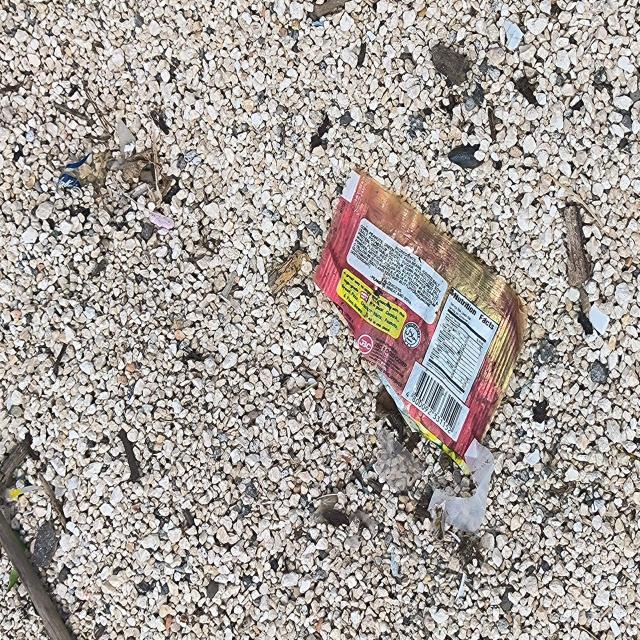plastic_waste: (309, 165, 531, 478)
